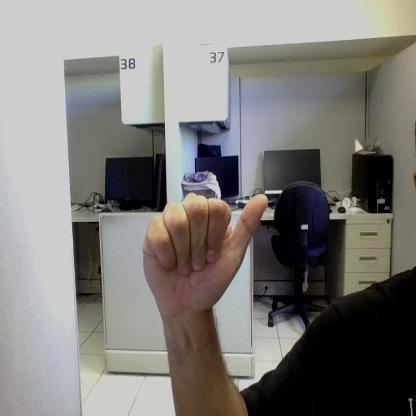A: (142, 194, 267, 300)
